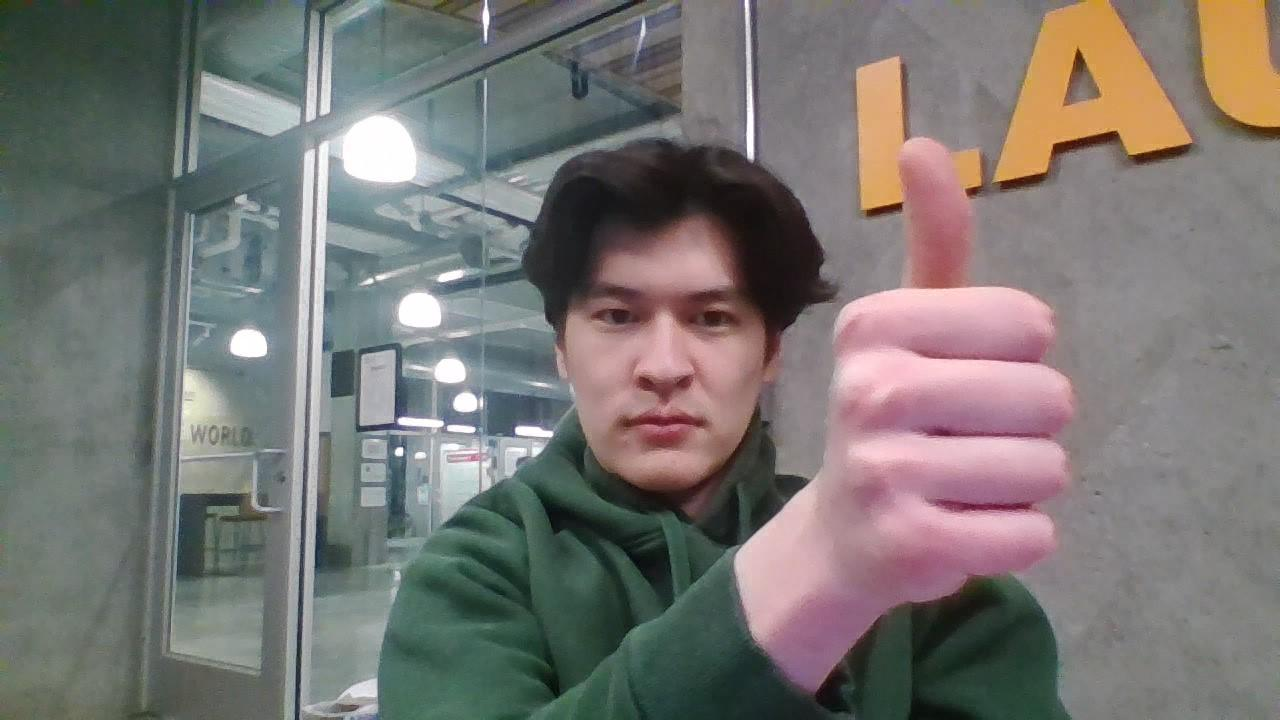thumbsUp: (832, 138, 1074, 581)
